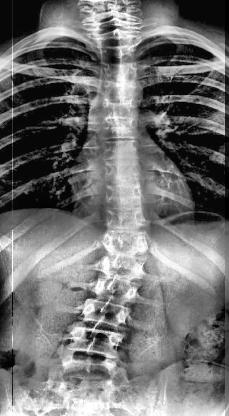Vertebrae: (65, 327, 121, 359), (80, 298, 134, 326), (99, 252, 152, 278), (100, 228, 152, 254), (90, 276, 142, 300), (104, 186, 148, 212), (103, 160, 143, 188), (103, 210, 153, 232), (96, 62, 142, 83), (101, 140, 141, 162), (100, 98, 140, 120), (104, 81, 143, 103), (102, 118, 138, 140), (100, 43, 138, 61), (98, 27, 138, 43)
